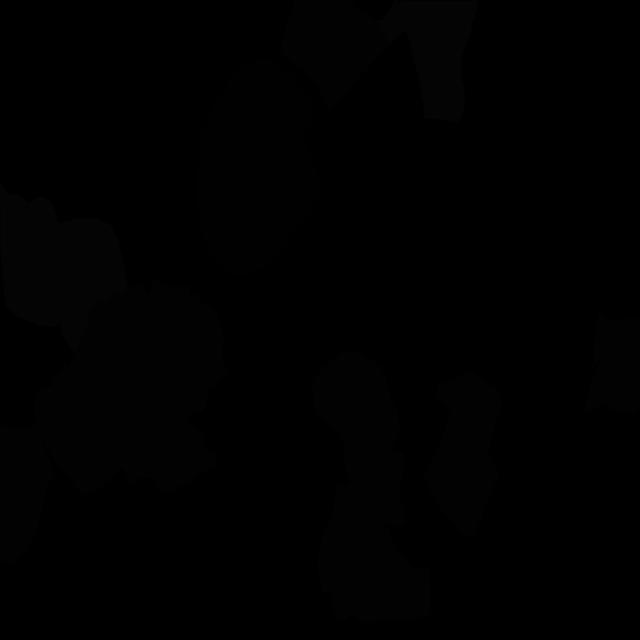cardboard: (34, 281, 228, 495), (312, 351, 406, 528), (424, 369, 503, 538), (280, 0, 390, 114), (317, 484, 414, 602), (0, 424, 56, 564), (330, 566, 431, 624), (584, 313, 640, 414)
rigid_plastic: (196, 57, 322, 276)
soft_plastic: (0, 183, 128, 353), (400, 0, 479, 123), (375, 0, 437, 104)
